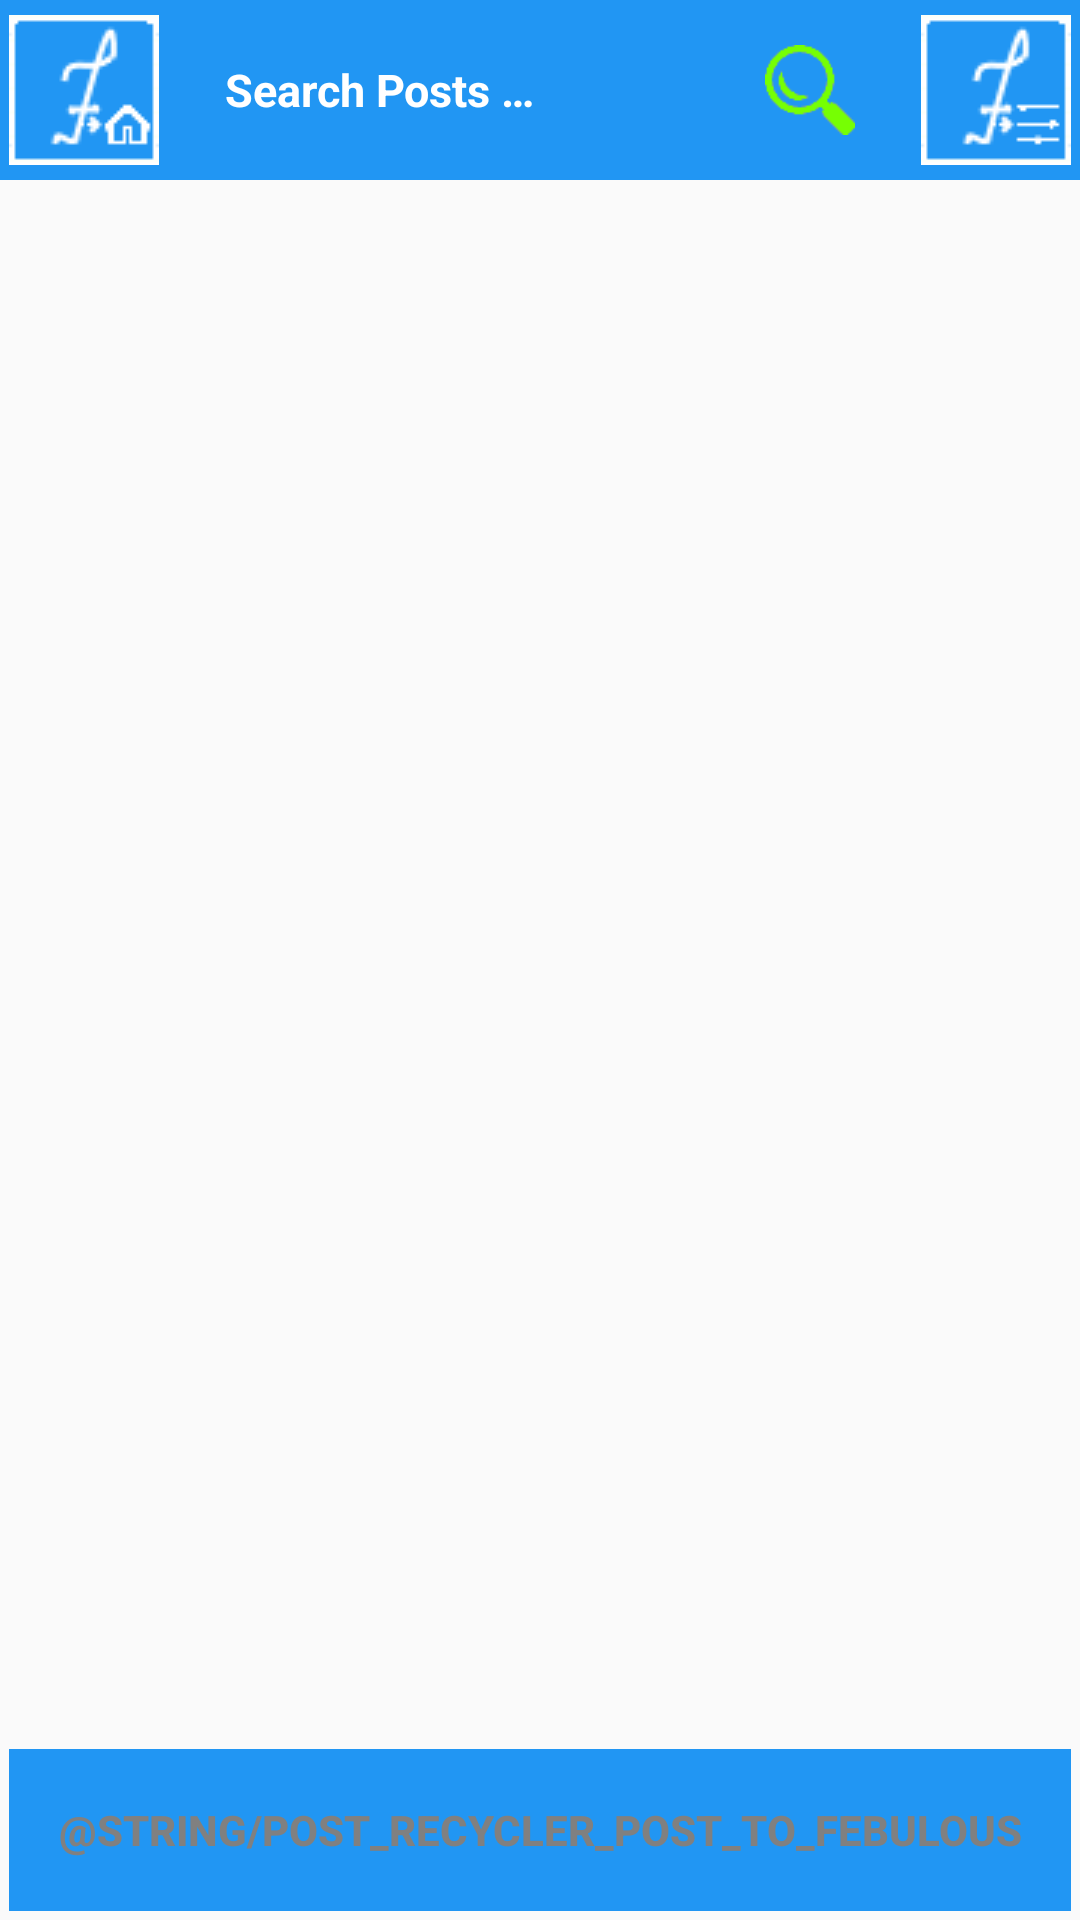

Point at icon controls on the screen. Image size 1080*1920, points as (x,y).
filters: (996,90)
home: (84,90)
